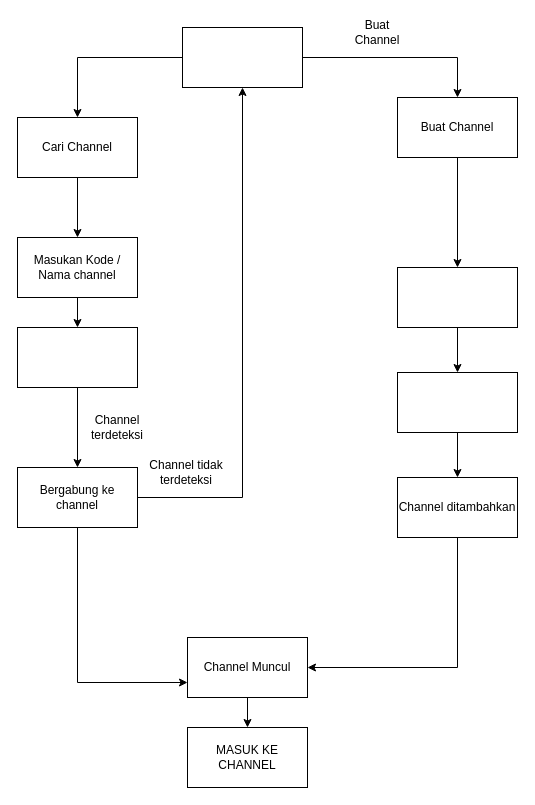
Image size: 535x805. Some labels were removed from this diagram. The centre of each missing label's shape, as x and y in pixels:
"Cari Channel di database" goes at point 77,357.
"Channel dibuat + Kode channel" goes at point 457,297.
"Homepage" goes at point 242,57.
"Simpan di database" goes at point 457,402.
